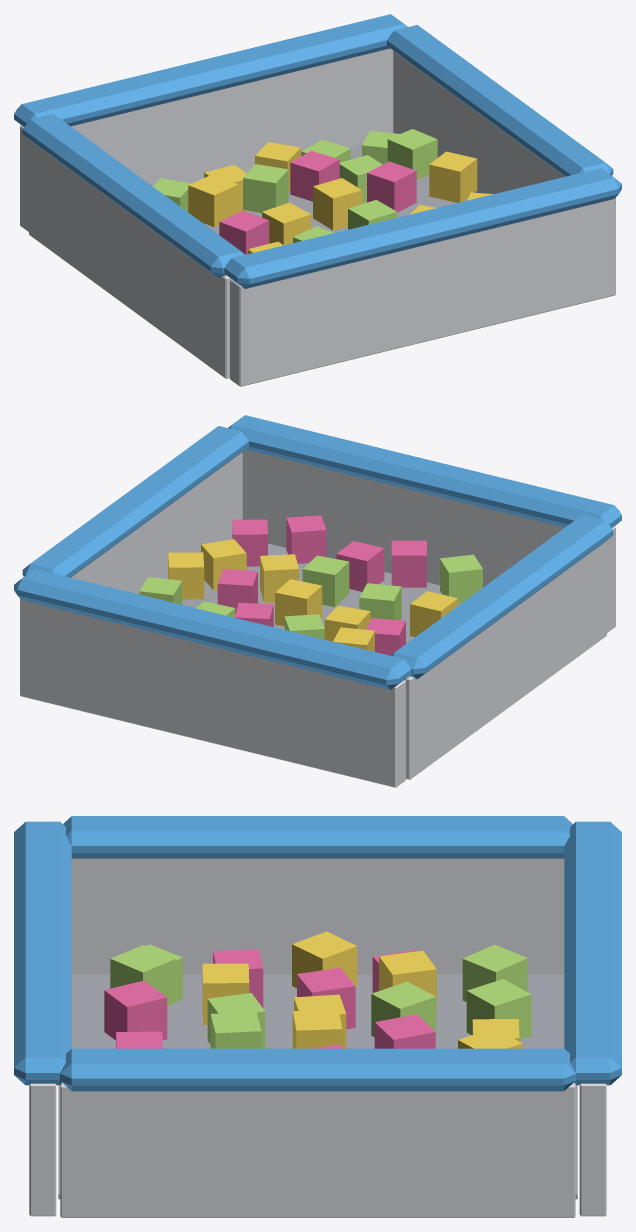
File: trampoline-park-and-soft-play-foam-pit-frame-with-cube-e95382a8__34614.glb
The picture shows the model from 3 angles, top to bottom: view 1: azimuth 30°, elevation 25°; view 2: azimuth 150°, elevation 25°; view 3: azimuth 270°, elevation 25°; orthographic projection. The views are drawn at different scales.
Parts seen in each view (by area): view 1: foam-pit-frame-with-cubes; view 2: foam-pit-frame-with-cubes; view 3: foam-pit-frame-with-cubes.
Part boxes in pixels (bbox=[...]): foam-pit-frame-with-cubes: bbox=[14, 14, 621, 386]; foam-pit-frame-with-cubes: bbox=[14, 415, 621, 787]; foam-pit-frame-with-cubes: bbox=[14, 816, 621, 1217].
Size of the model in its own units: 3.16 by 0.9 by 3.16.
